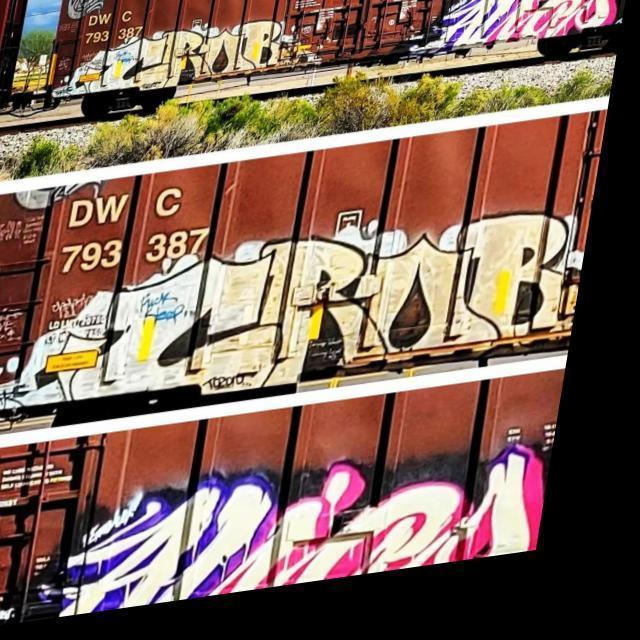-: (0, 215, 603, 424), (0, 433, 575, 633), (66, 21, 328, 111), (62, 184, 232, 285), (410, 0, 628, 73), (85, 10, 150, 48)
